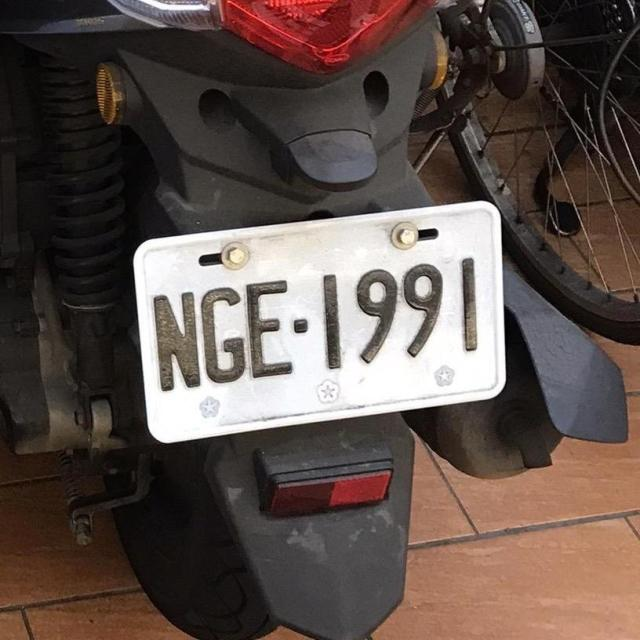W: (130, 200, 507, 446)
